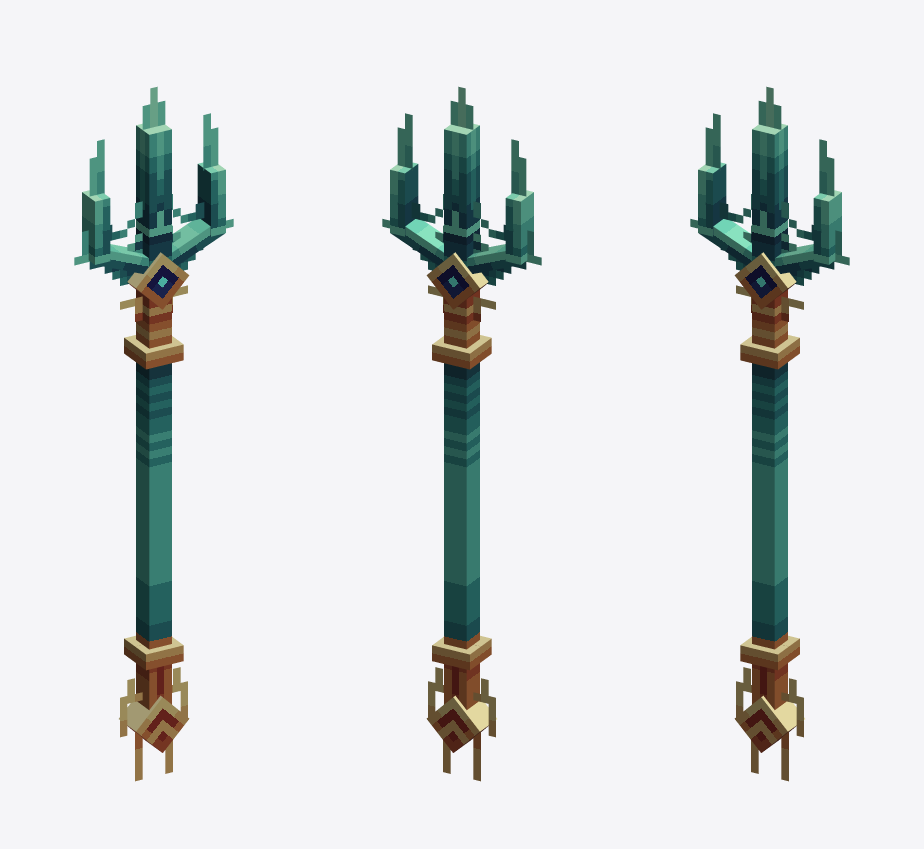
3 views of the same model, side by side, from view 1: azimuth 30°, elevation 25°; view 2: azimuth 150°, elevation 25°; view 3: azimuth 330°, elevation 25° (orthographic).
Parts seen in each view (by area): view 1: cube (×11); view 2: cube (×11); view 3: cube (×11).
Part boxes in pixels (left/top/right/bottom): cube (×11): left=74, top=86, right=233, bottom=781; cube (×11): left=382, top=86, right=541, bottom=781; cube (×11): left=690, top=86, right=849, bottom=781.
Size of the model in its own units: 1.16 by 3 by 0.1563.
Materials: 1 (1 with a texture image).
